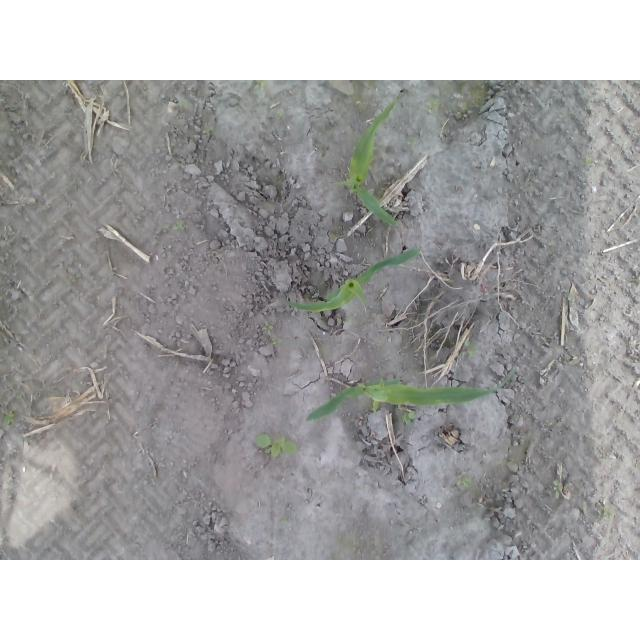Maize: (303, 366, 517, 423), (285, 246, 424, 314), (336, 92, 401, 228)
Weeds: (255, 433, 297, 457), (156, 220, 185, 232), (461, 340, 479, 357), (552, 480, 564, 500), (456, 473, 473, 487), (600, 507, 615, 522), (426, 99, 441, 113), (402, 412, 418, 424), (585, 156, 599, 169), (262, 321, 274, 336), (3, 410, 15, 424), (67, 273, 81, 284), (253, 80, 267, 90), (203, 122, 213, 134), (561, 110, 573, 119), (178, 102, 188, 110), (407, 139, 418, 146), (276, 111, 284, 120), (270, 338, 282, 344), (280, 517, 288, 524), (343, 318, 351, 324)
